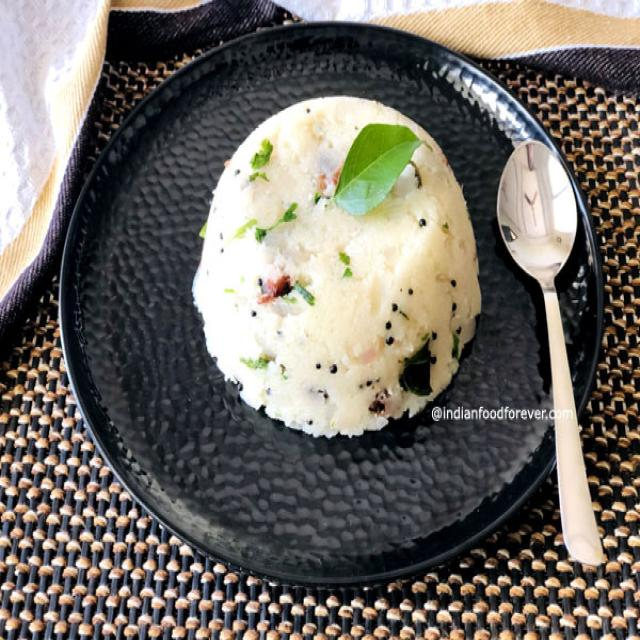UPMA: (190, 95, 480, 430)
